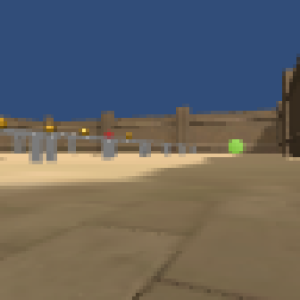badGoal: (104, 129, 114, 139)
goodGoal: (227, 136, 243, 156)
goodGoalMulti: (79, 124, 90, 137), (45, 120, 56, 132), (124, 131, 134, 140), (1, 116, 8, 127)
wall: (31, 134, 44, 162), (12, 132, 27, 154), (46, 134, 58, 161), (101, 141, 115, 159), (139, 140, 152, 158), (68, 135, 78, 153), (162, 143, 171, 155), (178, 145, 186, 155), (189, 146, 197, 155)
